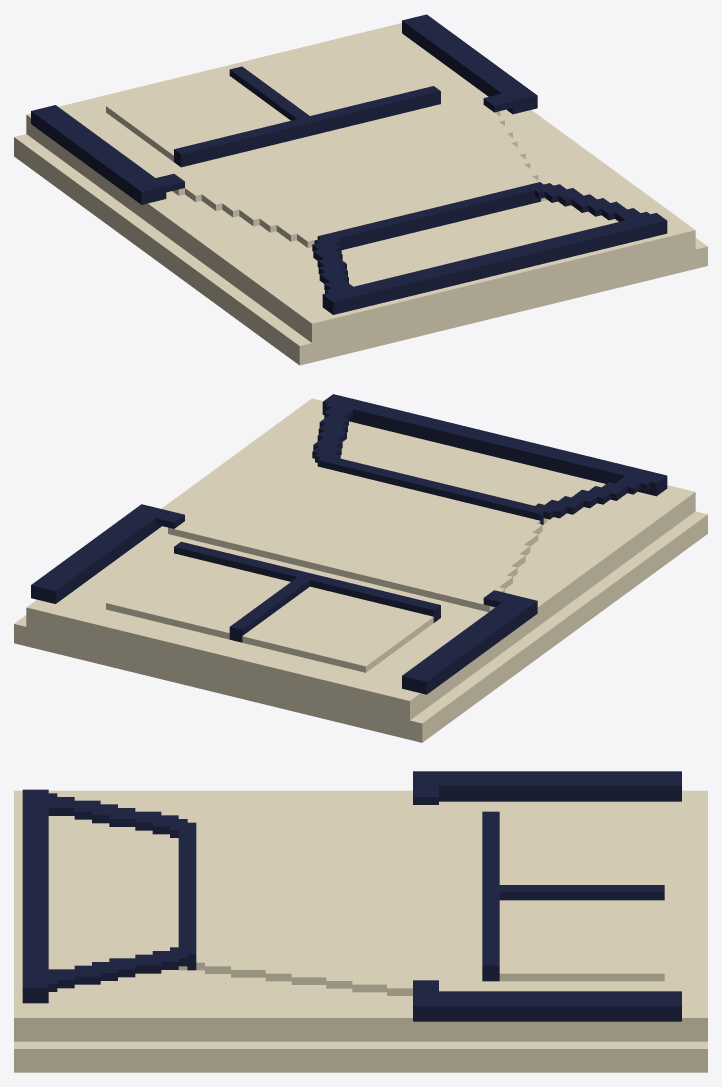
Rendered from apron_cotton.glb.
3 views of the same model, one above another, from view 1: azimuth 30°, elevation 25°; view 2: azimuth 150°, elevation 25°; view 3: azimuth 270°, elevation 25° (orthographic). The views are drawn at different scales.
Parts seen in each view (by area): view 1: apron_cotton:compound; view 2: apron_cotton:compound; view 3: apron_cotton:compound.
Boxes of the visible parts, x1=… form: apron_cotton:compound: x1=14, y1=14, x2=707, y2=365; apron_cotton:compound: x1=14, y1=394, x2=707, y2=742; apron_cotton:compound: x1=14, y1=771, x2=707, y2=1072.
Bounding box in the file's own units: 0.264 × 0.032 × 0.32.
